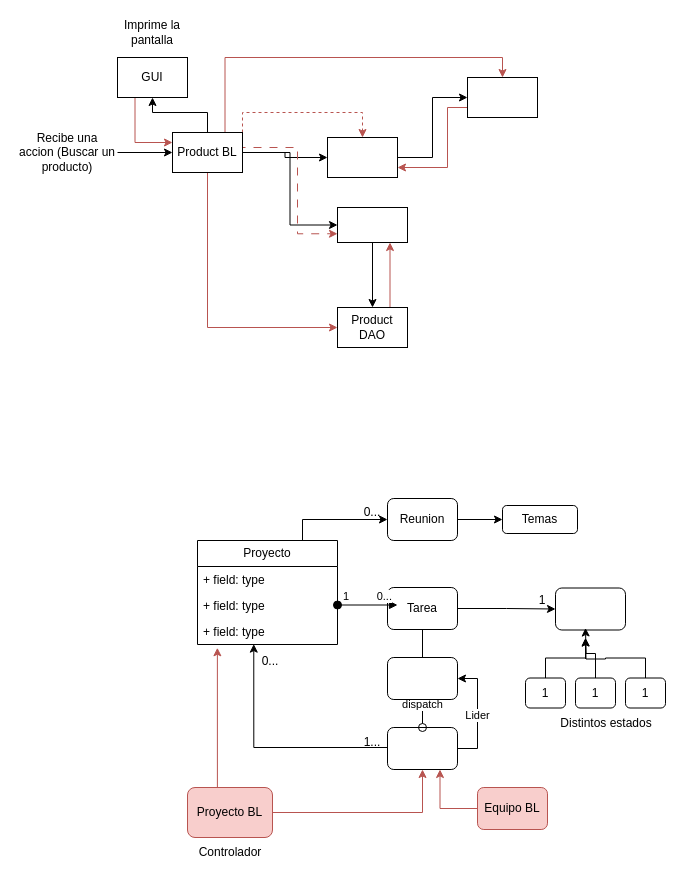
This 698x884 diagram has some shape labels left out. Each missing label, with the centre of its shape:
Equipo: the point at 422,748
Estados: the point at 590,608
Pesona: the point at 422,678
Product: the point at 372,224
Usuario: the point at 362,157
Usuario DAO: the point at 502,97
